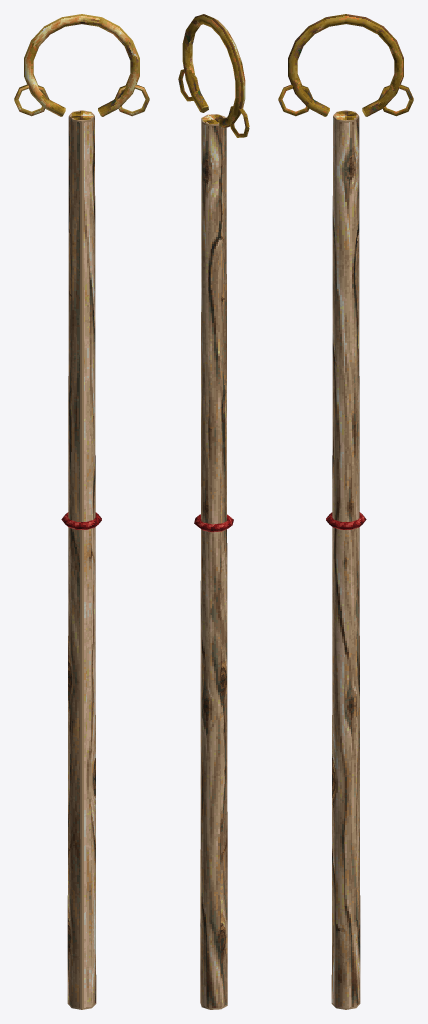
File: monk_staff.glb
The picture shows the model from 3 angles, left to right: view 1: azimuth 90°, elevation 25°; view 2: azimuth 210°, elevation 25°; view 3: azimuth 270°, elevation 25°; orthographic projection.
Visible parts, largest first — view 1: monk_staff; view 2: monk_staff; view 3: monk_staff.
Boxes of the visible parts, <box> form: monk_staff: <box>14,14,149,1009</box>; monk_staff: <box>178,14,249,1009</box>; monk_staff: <box>278,14,413,1009</box>.
Bounding box in the file's own units: 0.0437 × 1.23 × 0.1516.
Materials: 1 (1 with a texture image).
